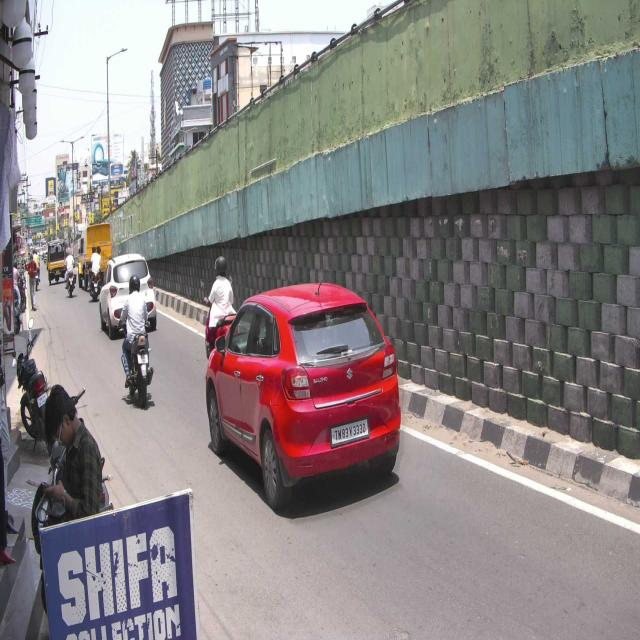single_rider: (116, 274, 154, 408)
